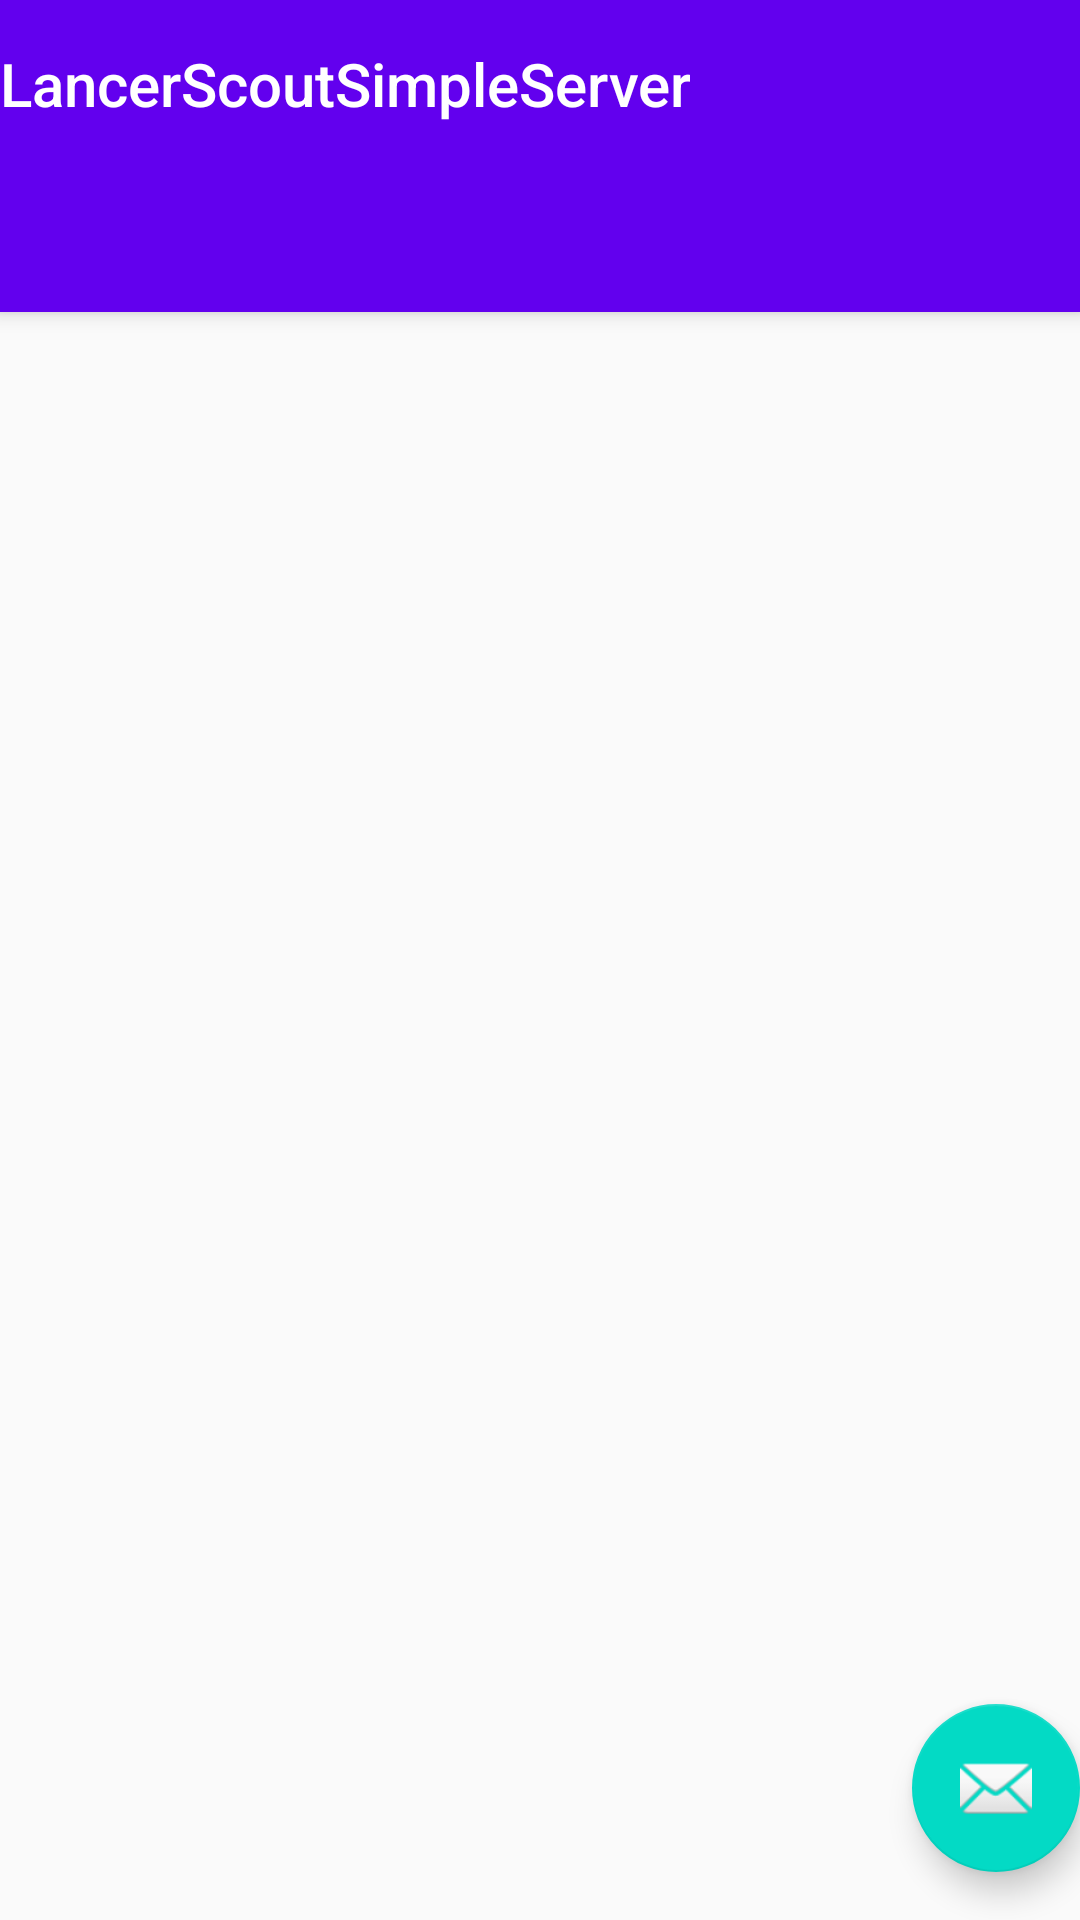

Icons on this 1080px×1920px Android screen, each with its box as detection(x1, y1, x2, y2):
email: detection(912, 1704, 1080, 1872)
